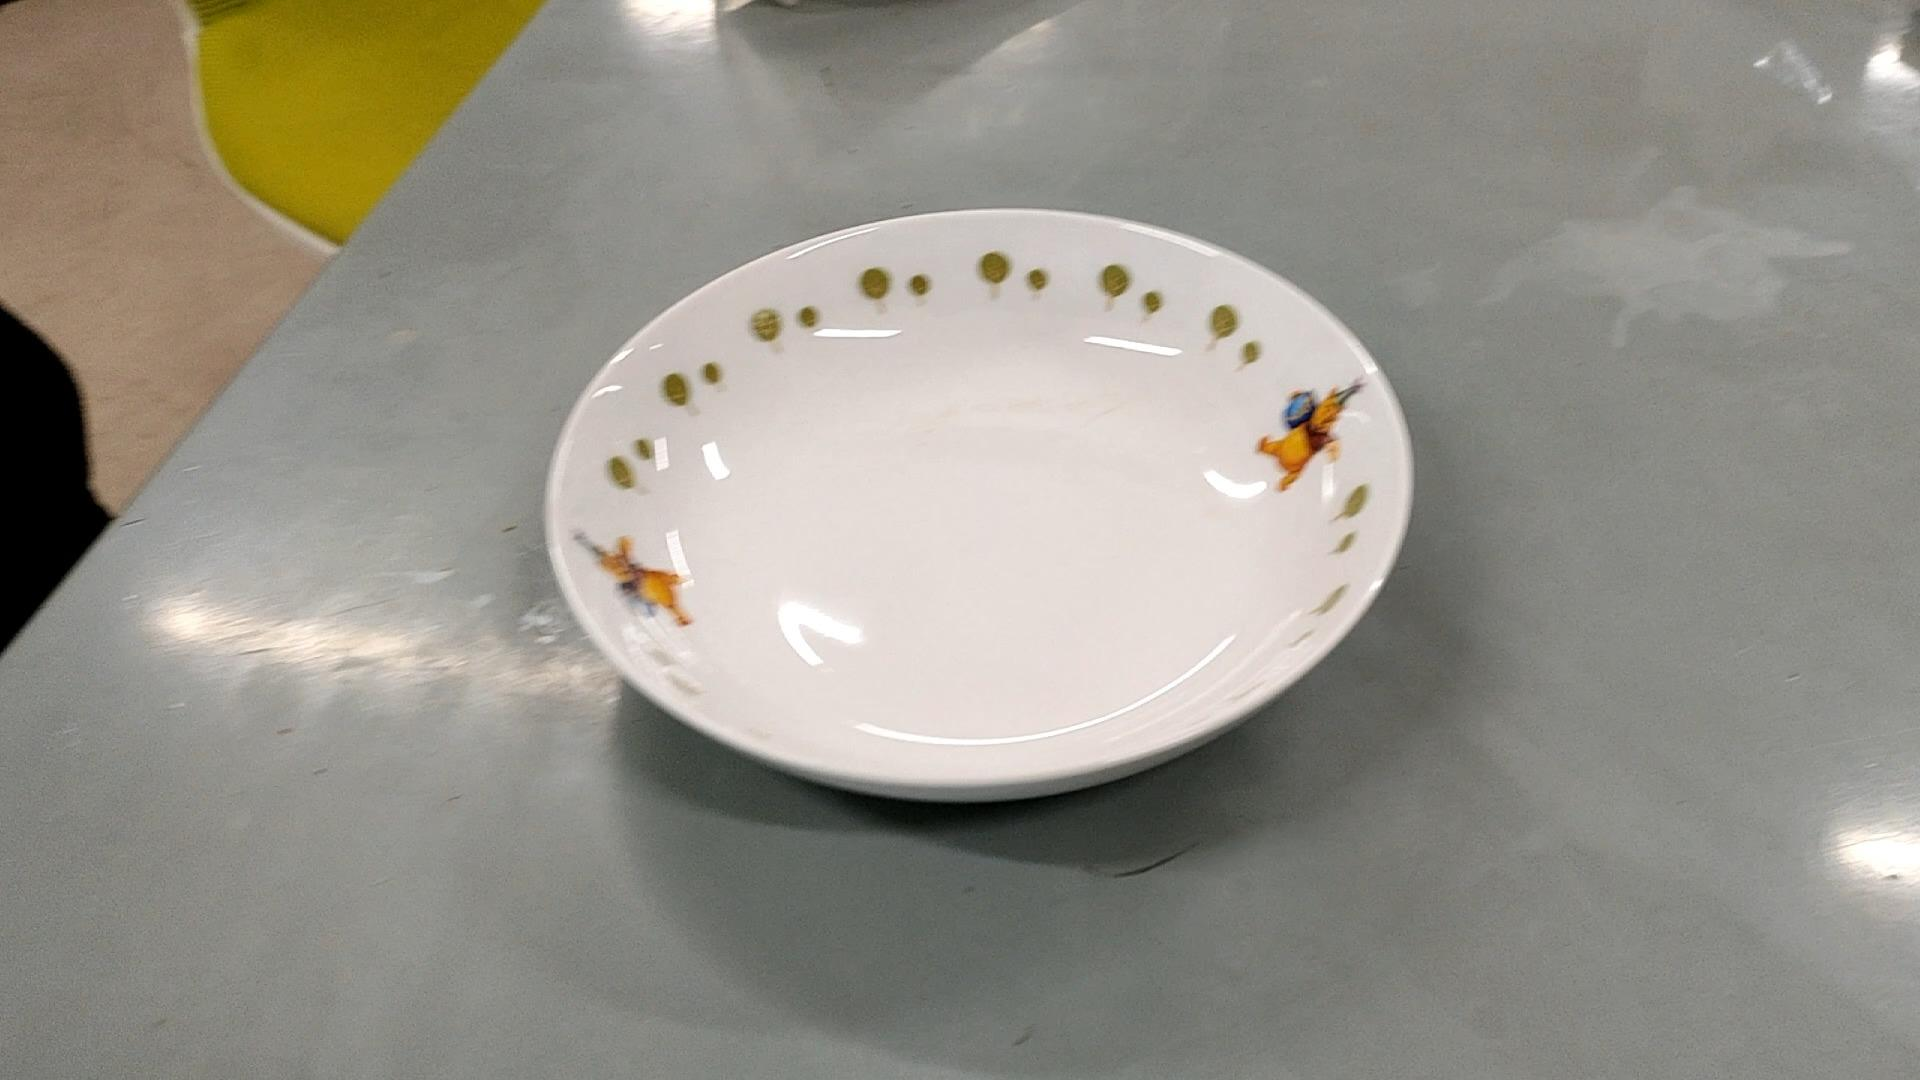plate: (546, 206, 1418, 814)
